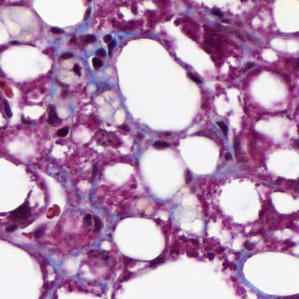inflammation: (76, 26, 119, 74)
